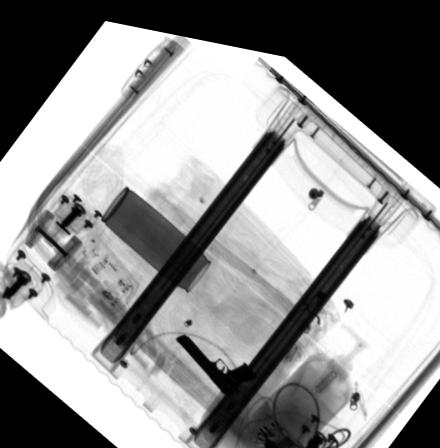Gun: (173, 322, 257, 385)
